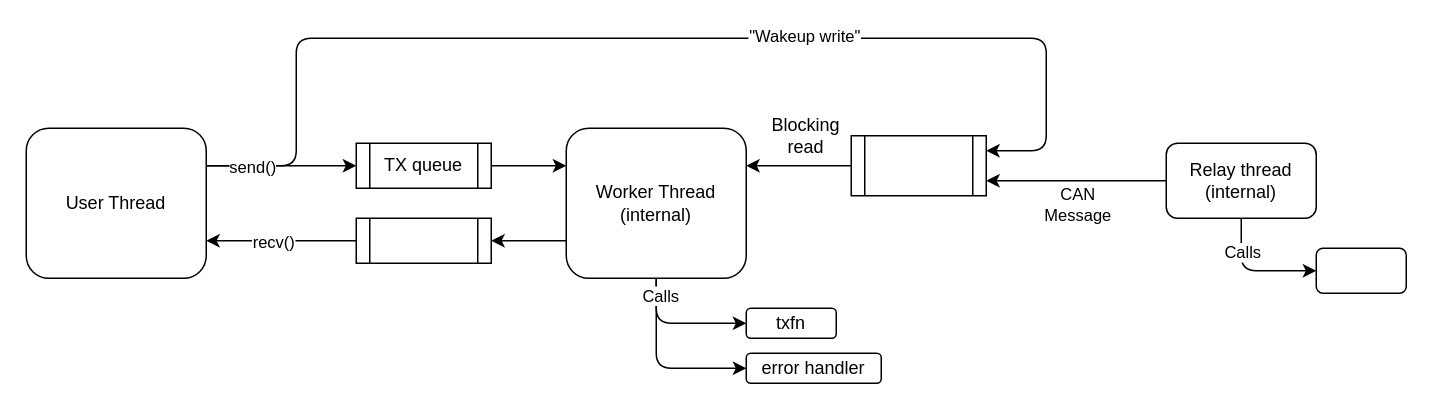
This 1433x410 diagram has some shape labels left out. Each missing label, with the centre of its shape:
"Relay queue" goes at [918,165].
"RX queue" goes at [423,240].
"rxfn" goes at [1360,270].
